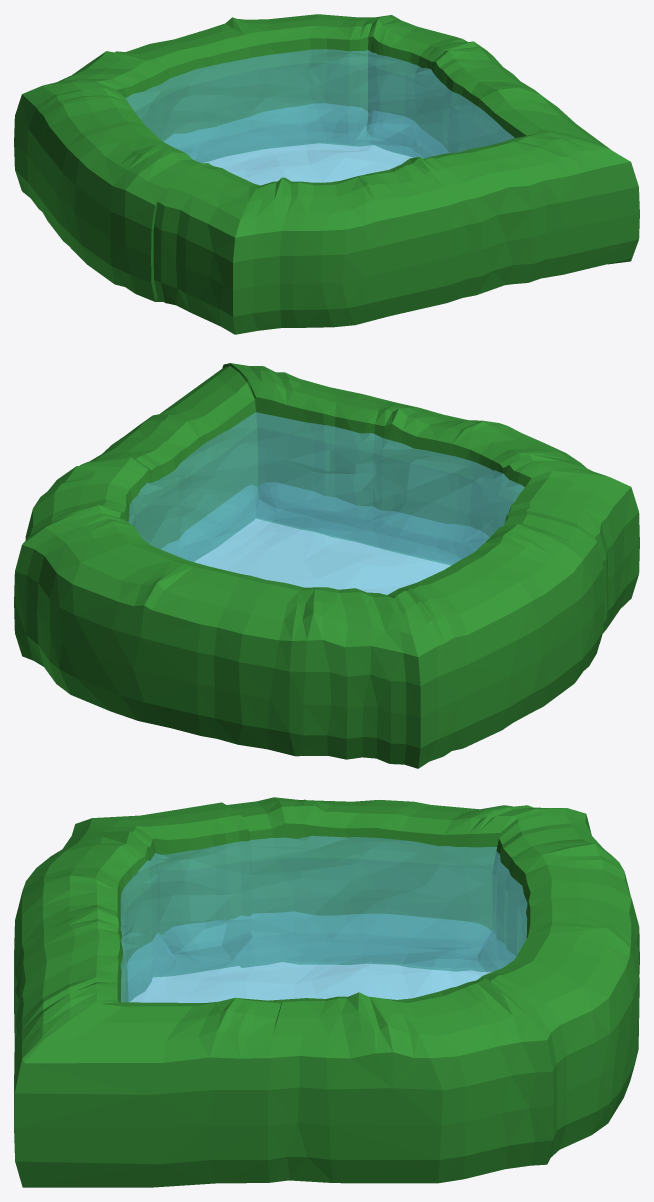
File: etang.fbx
3 renders of one model, top to bottom at view 1: azimuth 30°, elevation 25°; view 2: azimuth 150°, elevation 25°; view 3: azimuth 270°, elevation 25°, orthographic. The views are drawn at different scales.
Parts seen in each view (by area): view 1: Cube; view 2: Cube; view 3: Cube.
Part boxes in pixels (x1,y1,x2,y2): Cube: [14, 14, 639, 334]; Cube: [14, 363, 639, 768]; Cube: [14, 797, 639, 1187].
Size of the model in its own units: 565 by 171 by 566.
